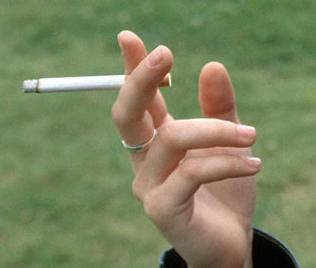smoke: (19, 71, 122, 95)
